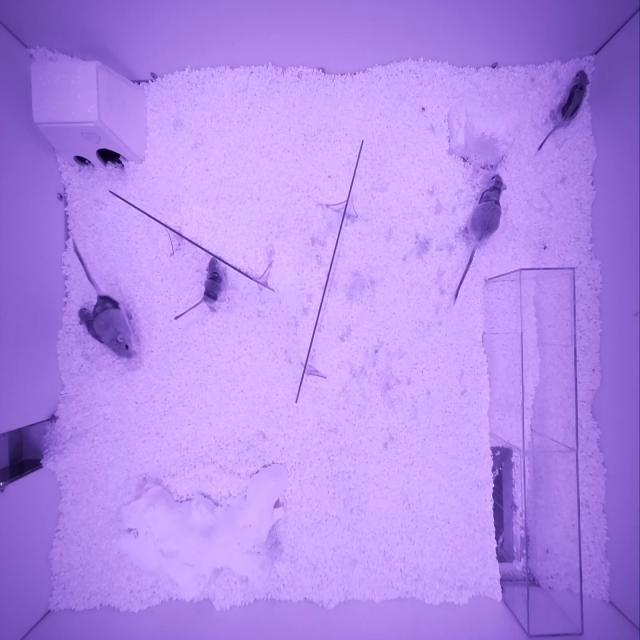adult_back: (92, 295, 131, 357)
adult_front: (469, 174, 506, 240)
pup_fluffy: (78, 308, 106, 344)
pup_h_stripe: (203, 257, 223, 307)
pup_v_stripe: (556, 70, 590, 126)
